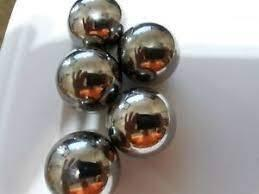steelball: (38, 124, 122, 194), (107, 85, 174, 163), (46, 37, 119, 108), (117, 17, 181, 88), (62, 0, 126, 48)
